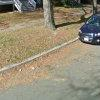Car: (74, 7, 100, 49)
